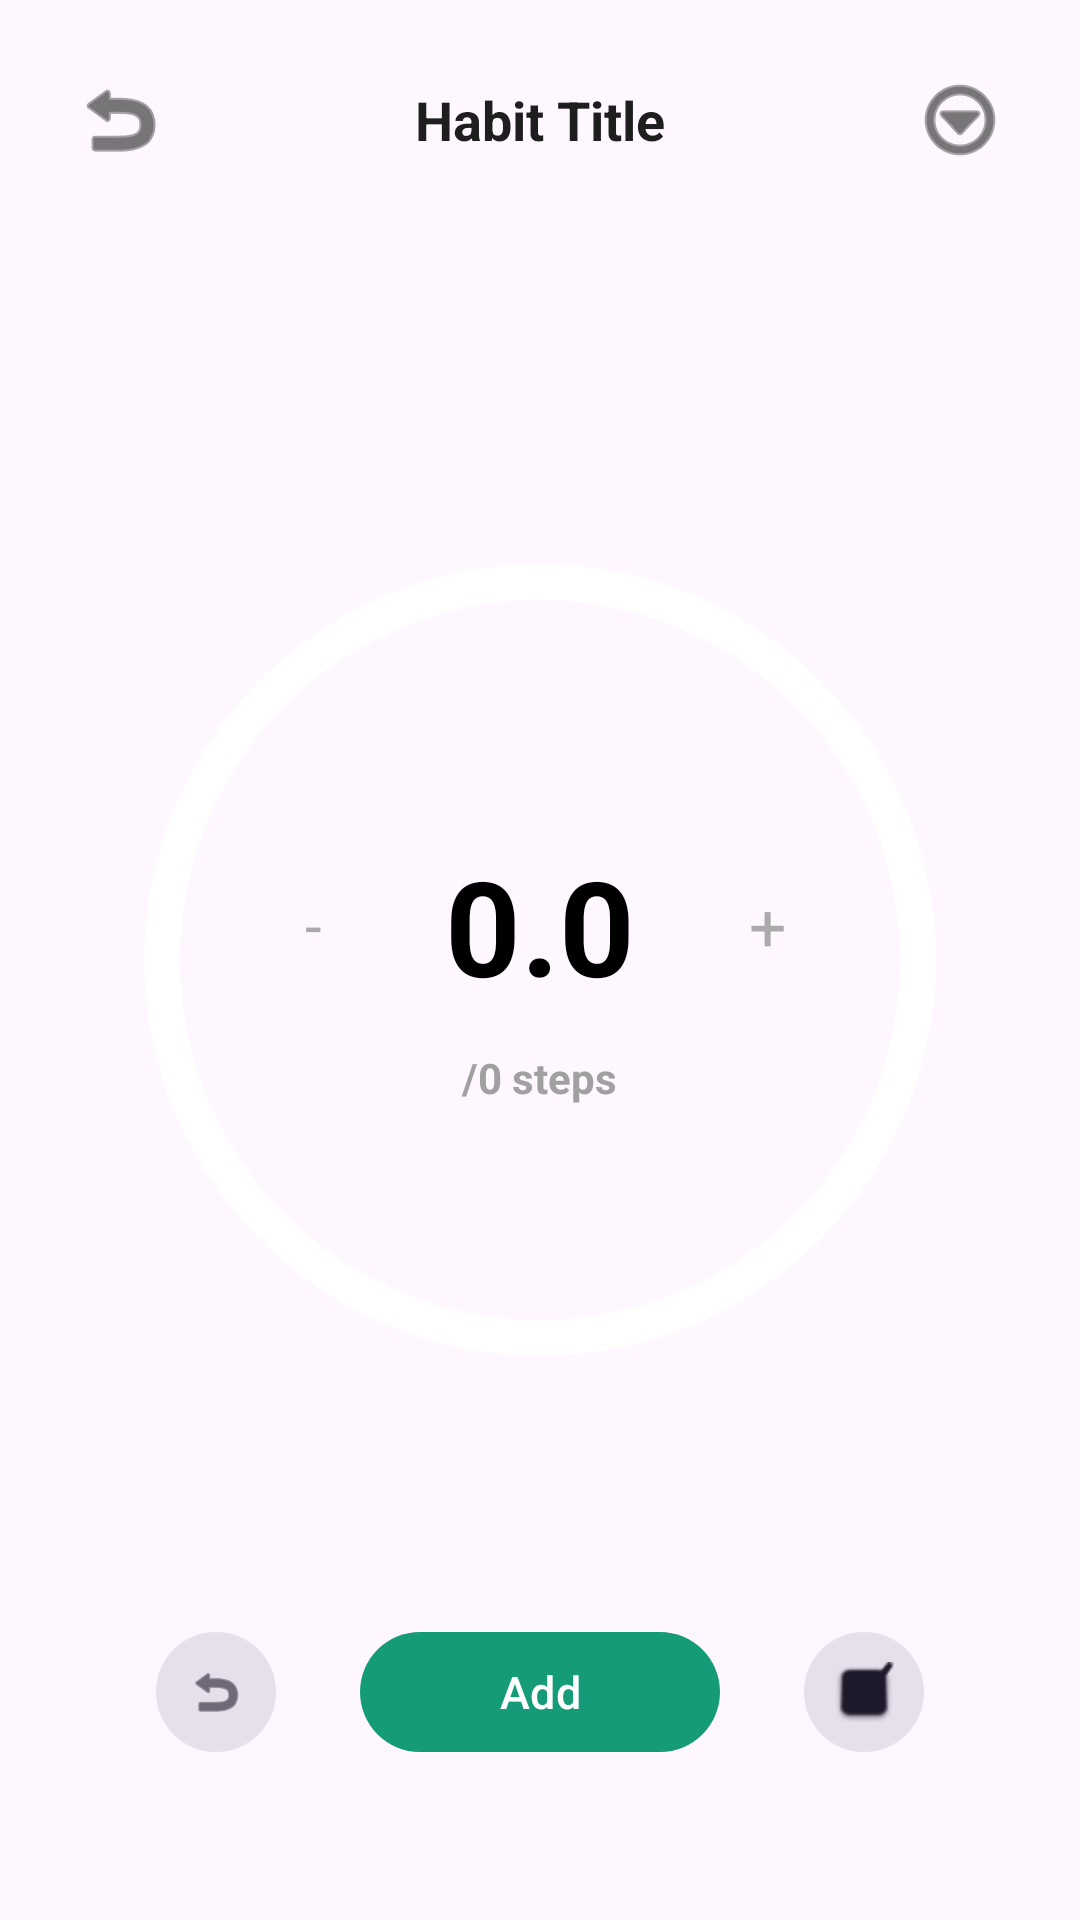

Named icons in this screenshot (1080px×1920px) and their bounding boxes, (x1, y1, x2, y2):
more: (924, 84, 996, 156)
revert: (87, 89, 156, 152), (195, 1672, 239, 1712)
